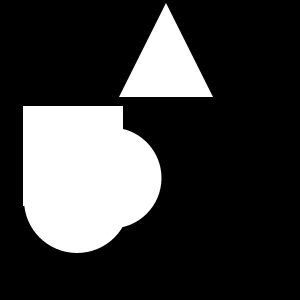circle: (23, 106, 123, 206)
rectangle: (24, 147, 130, 253), (60, 128, 162, 228)
triangle: (119, 3, 213, 97)
